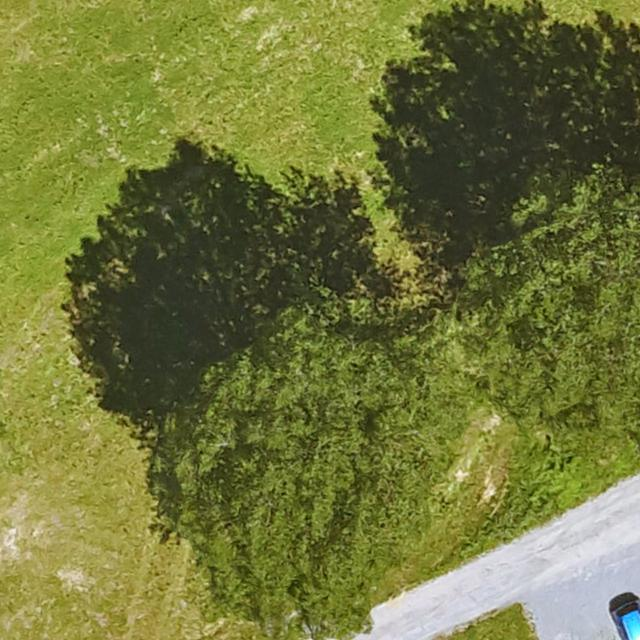tree: (156, 307, 434, 640), (468, 154, 640, 431)
